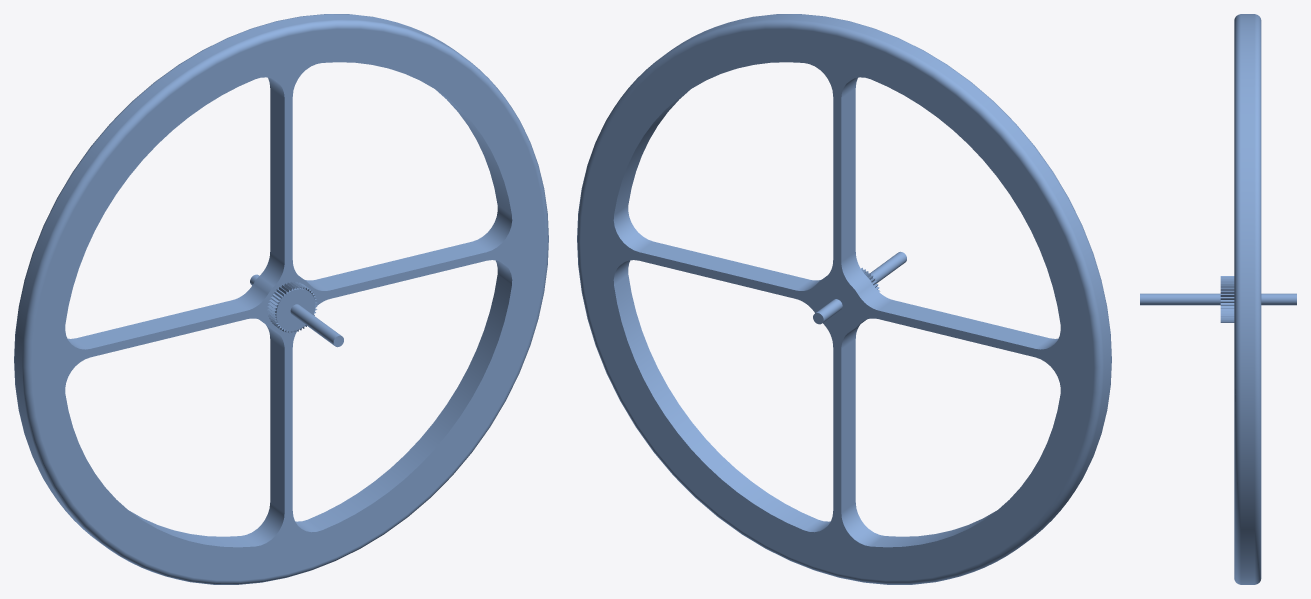
The model's file is WheelGear.glb.
3 renders of one model, left to right at view 1: azimuth 30°, elevation 25°; view 2: azimuth 150°, elevation 25°; view 3: azimuth 270°, elevation 25°, orthographic. The views are drawn at different scales.
Visible parts, largest first — view 1: Wheel_gear; view 2: Wheel_gear; view 3: Wheel_gear.
Boxes of the visible parts, x1,y1,x2,y2 form: Wheel_gear: [14, 14, 548, 584]; Wheel_gear: [577, 14, 1111, 584]; Wheel_gear: [1140, 14, 1296, 584].
Bounding box in the file's own units: 42.51 × 42.51 × 11.69.
